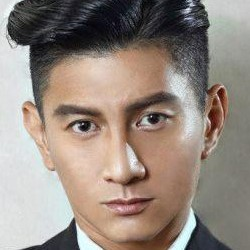unmask: (42, 74, 203, 243)
